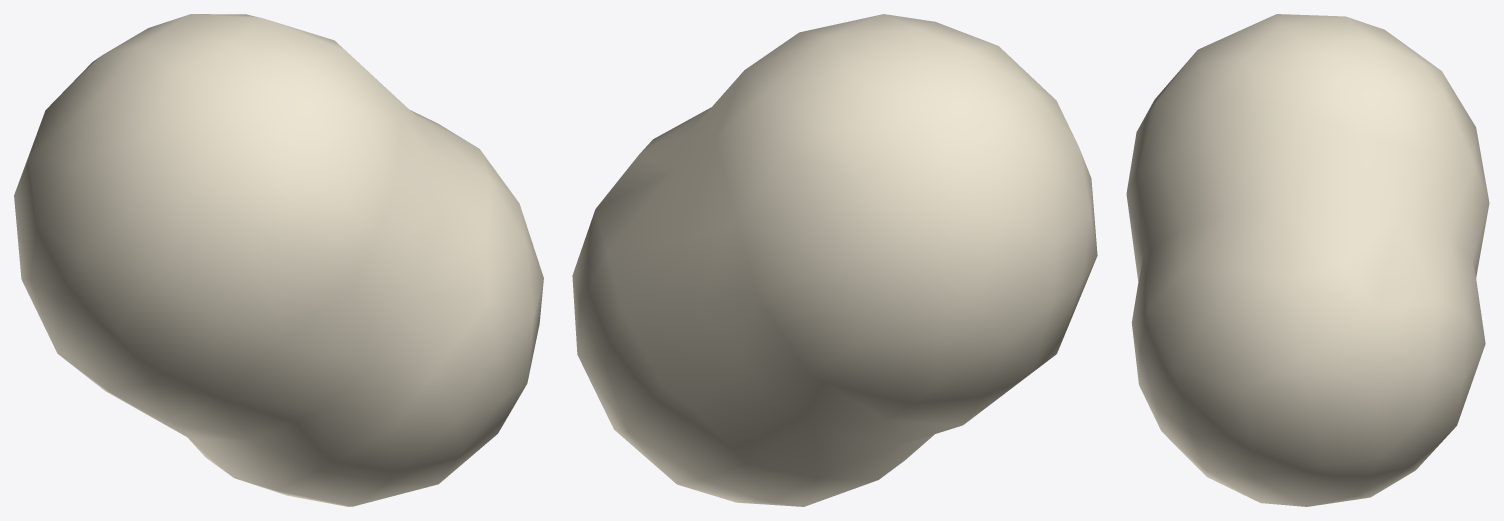
File: caudal_5.glb
3 views of the same model, side by side, from view 1: azimuth 30°, elevation 25°; view 2: azimuth 150°, elevation 25°; view 3: azimuth 270°, elevation 25° (orthographic). The views are drawn at different scales.
Visible parts, largest first — view 1: geometry_0; view 2: geometry_0; view 3: geometry_0.
Boxes of the visible parts, x1,y1,x2,y2 form: geometry_0: (14, 14, 543, 506); geometry_0: (572, 14, 1097, 506); geometry_0: (1126, 14, 1489, 506).
Bounding box in the file's own units: 0.0565 × 0.0549 × 0.0438.
